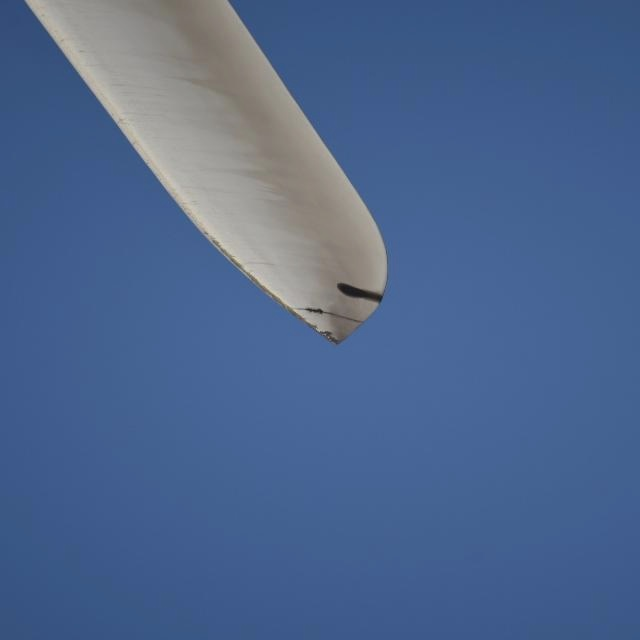Burn Mark: (336, 280, 387, 305), (308, 308, 324, 314)
Crack: (290, 306, 378, 324)
EROSION: (207, 242, 296, 318), (296, 315, 340, 352)
